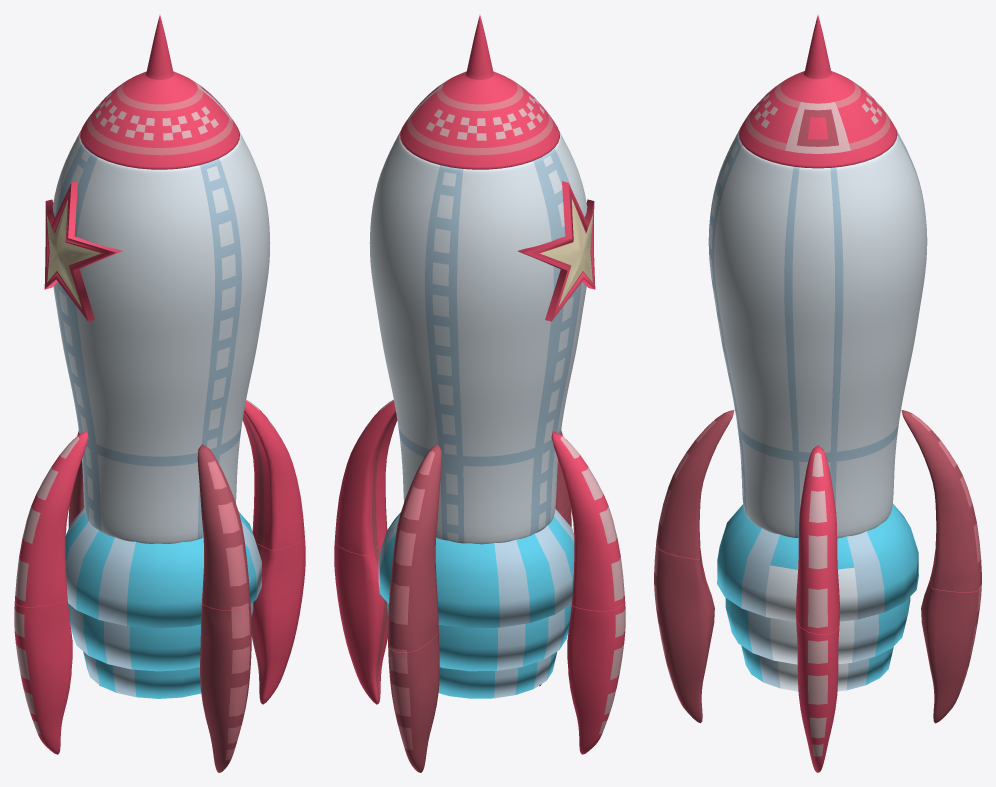
Rendered from Rocket_Medium_final.fbx.
The picture shows the model from 3 angles, left to right: view 1: azimuth 30°, elevation 25°; view 2: azimuth 150°, elevation 25°; view 3: azimuth 270°, elevation 25°; orthographic projection.
Visible parts, largest first — view 1: Body_top, Body_base, stands_bottom, stands_top, Propellor_top, Cap, Propellor_bottom, Hatch; view 2: Body_top, stands_top, Body_base, stands_bottom, Propellor_top, Cap, Propellor_bottom, Hatch; view 3: Body_top, Body_base, stands_top, stands_bottom, Propellor_top, Cap, Propellor_bottom.
Part boxes in pixels (<box>): Body_top: <box>52,131,270,393</box>; Body_base: <box>68,320,261,543</box>; stands_bottom: <box>14,539,305,772</box>; stands_top: <box>14,399,304,610</box>; Propellor_top: <box>65,508,261,628</box>; Cap: <box>80,15,239,169</box>; Propellor_bottom: <box>68,602,253,698</box>; Hatch: <box>44,181,122,321</box>; Body_top: <box>369,131,587,403</box>; stands_top: <box>334,400,624,652</box>; Body_base: <box>380,331,572,544</box>; stands_bottom: <box>334,502,625,772</box>; Propellor_top: <box>378,509,574,628</box>; Cap: <box>400,15,559,169</box>; Propellor_bottom: <box>387,603,571,698</box>; Hatch: <box>517,181,595,321</box>; Body_top: <box>708,130,927,356</box>; Body_base: <box>720,332,912,538</box>; stands_top: <box>656,410,981,634</box>; stands_bottom: <box>654,545,981,772</box>; Propellor_top: <box>717,503,918,621</box>; Cap: <box>738,15,897,168</box>; Propellor_bottom: <box>725,597,910,691</box>.
Size of the model in its own units: 185 by 443 by 185.
